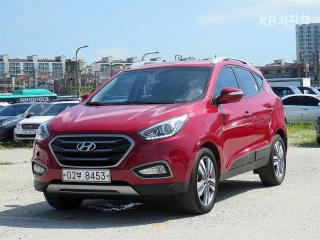0: (66, 170, 72, 180)
2: (71, 171, 77, 179)
3: (100, 172, 106, 181)
4: (90, 171, 95, 180)
5: (95, 171, 101, 180)
8: (85, 171, 90, 180)
부: (77, 171, 82, 180)
